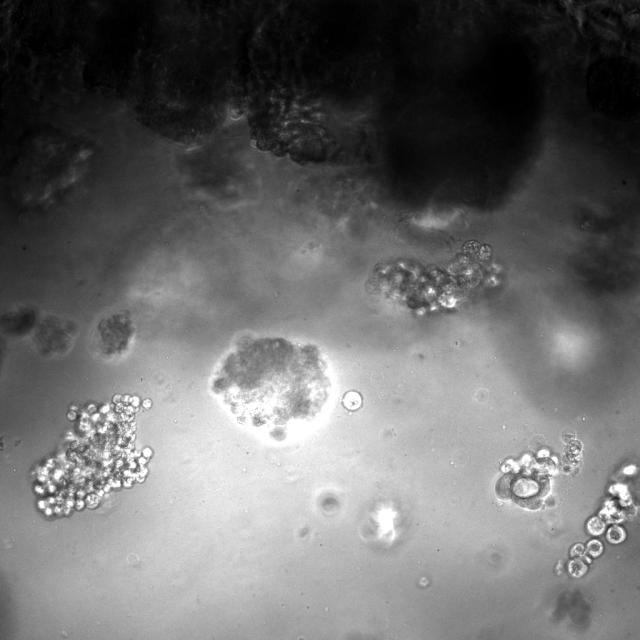organoid: (229, 11, 341, 163), (34, 394, 152, 515), (211, 336, 331, 441), (555, 460, 639, 580), (368, 240, 499, 313), (494, 430, 582, 510), (0, 306, 78, 355), (98, 311, 134, 353), (341, 390, 363, 411)
